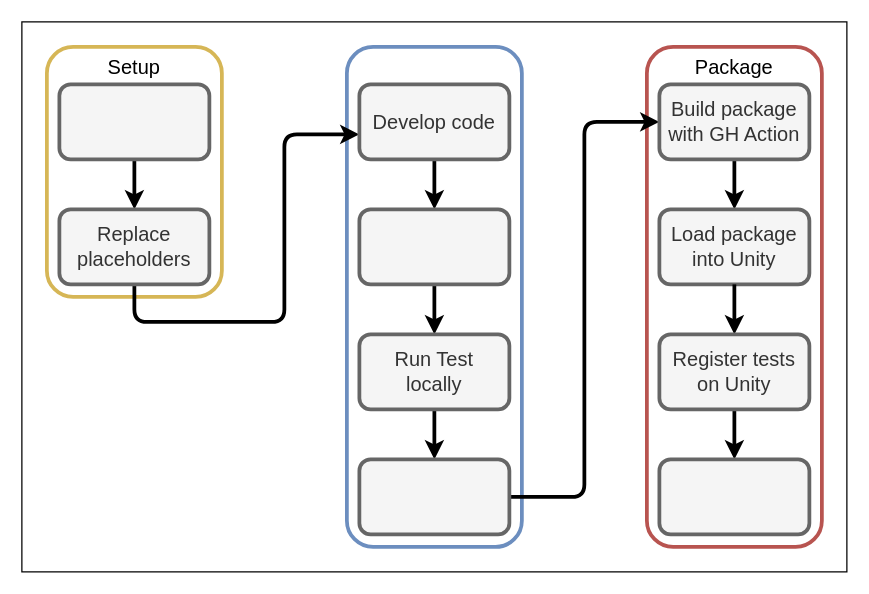
The diagram is 869 pixels wide and 594 high, and some of its shapes have lost their labels. The box of each missing label's shape, as (x1, y1, x2, y2) in pixels:
Clone template: (57, 82, 211, 161)
Develop test: (357, 207, 511, 286)
Development: (344, 44, 523, 548)
Push changes on master: (357, 457, 511, 536)
Run test in Unity: (657, 457, 811, 536)
